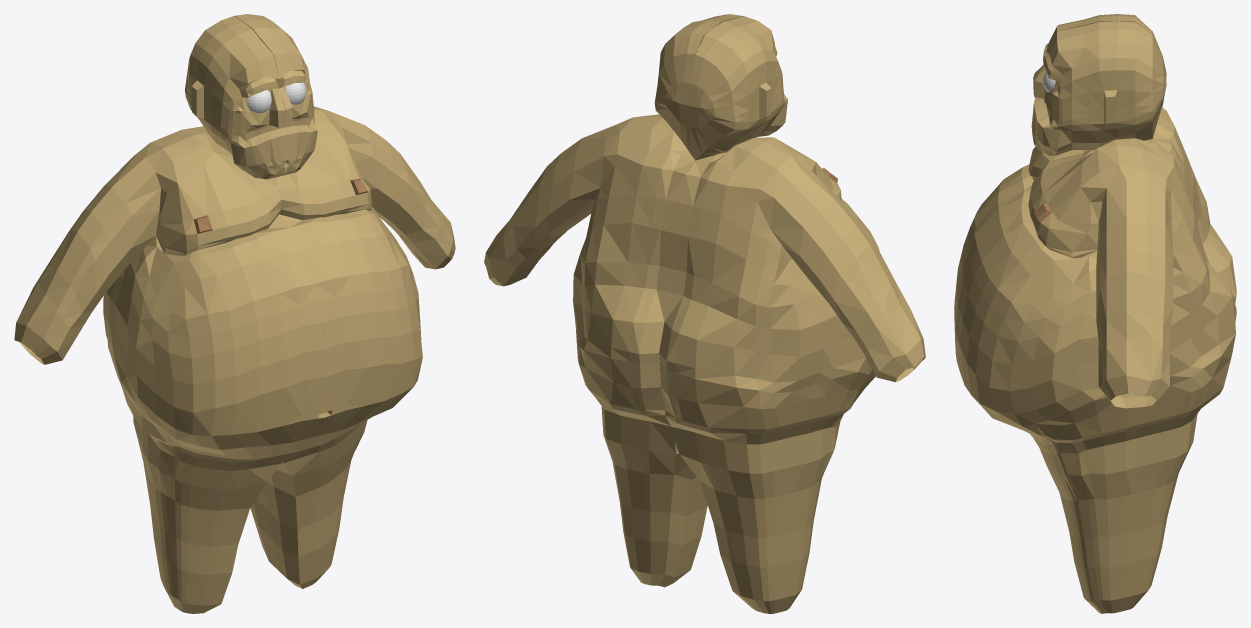
File: gordi02SPRINT1.dae
The picture shows the model from 3 angles, left to right: view 1: azimuth 30°, elevation 25°; view 2: azimuth 150°, elevation 25°; view 3: azimuth 270°, elevation 25°; orthographic projection.
Parts seen in each view (by area): view 1: Cube_001, Cube; view 2: Cube_001, Cube; view 3: Cube, Cube_001.
Part boxes in pixels (<box>): Cube_001: <box>14,16,325,613</box>; Cube: <box>234,14,455,588</box>; Cube_001: <box>659,16,925,613</box>; Cube: <box>484,14,743,587</box>; Cube: <box>954,21,1236,613</box>; Cube_001: <box>954,14,1236,307</box>.
Bounding box in the file's own units: 8.47 × 4.86 × 10.69.
